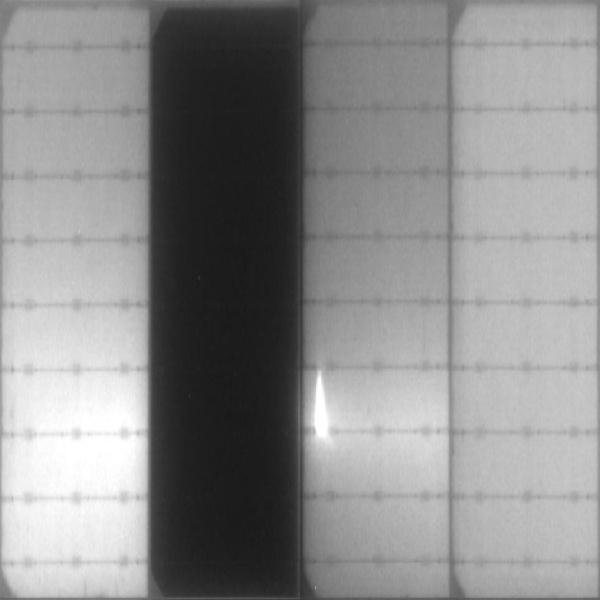hot_spot: (311, 370, 333, 442)
no_electricity: (149, 1, 302, 596)
